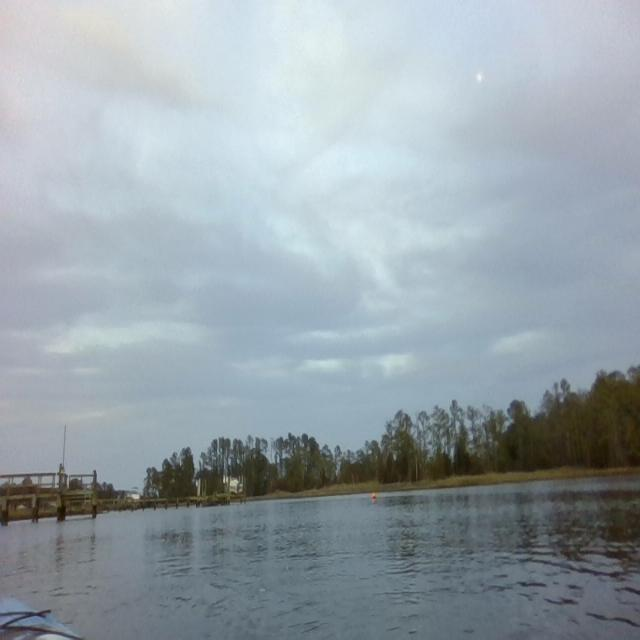Buoy: (370, 489, 378, 503)
